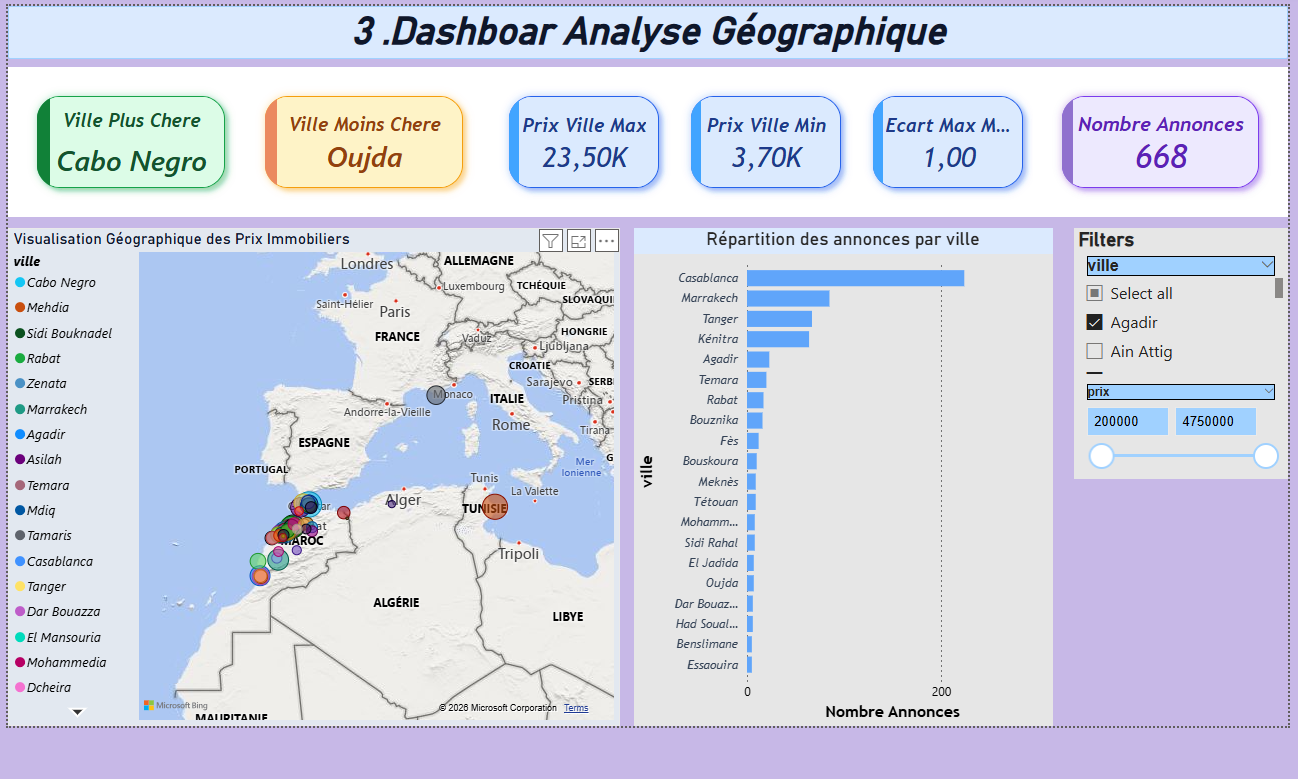

What the dashboard file says about the page in this screenshot:
{"tool":"powerbi","page":{"name":"Analyse Géographique","canvas":[1280,720],"ordinal":2},"visuals":[{"type":"textbox","title":" 3 .Dashboar Analyse Géographique","box":[0,0,1280,53],"z":0},{"type":"map","title":"Visualisation Géographique des Prix Immobiliers","fields":{"Category":["bi_schema regions.ville"],"Series":["bi_schema regions.ville"],"Size":["bi_schema fact_avito.Prix Moyen"]},"box":[0,222,612,498],"z":1000},{"type":"barChart","title":"Répartition des annonces par ville","fields":{"Y":["bi_schema fact_avito.Nombre Annonces"],"Category":["bi_schema regions.ville"]},"box":[626,222,419,498],"z":2000},{"type":"cardVisual","fields":{"Data":["bi_schema fact_avito.Ville Plus Chere"]},"box":[0,61,246,150],"z":3000},{"type":"cardVisual","fields":{"Data":["bi_schema fact_avito.Ville Moins Chere"]},"box":[228,61,256,150],"z":4000},{"type":"cardVisual","fields":{"Data":["bi_schema fact_avito.Prix Ville Max","bi_schema fact_avito.Prix Ville Min","bi_schema fact_avito.Ecart Max Min"]},"box":[472,61,573,150],"z":5000},{"type":"cardVisual","fields":{"Data":["bi_schema fact_avito.Nombre Annonces"]},"box":[1025,61,255,150],"z":6000},{"type":"slicer","fields":{"Values":["bi_schema regions.ville"]},"box":[1066,245,214,128],"z":7000},{"type":"slicer","fields":{"Values":["bi_schema fact_avito.prix"]},"box":[1066,373,214,100],"z":8000},{"type":"textbox","title":"Filters","box":[1066,222,214,23],"z":8001}]}

Visuals, with their boxes on the page's 1280x720 design canvas (x1, y1, x2, y2). These are canvas units, not pixel positions in the 1298x779 screenshot, which may show the page scaled, cropped or inside an application window:
" 3 .Dashboar Analyse Géographique" textbox: left=0, top=0, right=1280, bottom=53
"Visualisation Géographique des Prix Immobiliers" map: left=0, top=222, right=612, bottom=720
"Répartition des annonces par ville" barChart: left=626, top=222, right=1045, bottom=720
cardVisual - bi_schema fact_avito.Ville Plus Chere: left=0, top=61, right=246, bottom=211
cardVisual - bi_schema fact_avito.Ville Moins Chere: left=228, top=61, right=484, bottom=211
cardVisual - bi_schema fact_avito.Prix Ville Max x bi_schema fact_avito.Prix Ville Min: left=472, top=61, right=1045, bottom=211
cardVisual - bi_schema fact_avito.Nombre Annonces: left=1025, top=61, right=1280, bottom=211
slicer - bi_schema regions.ville: left=1066, top=245, right=1280, bottom=373
slicer - bi_schema fact_avito.prix: left=1066, top=373, right=1280, bottom=473
"Filters" textbox: left=1066, top=222, right=1280, bottom=245
